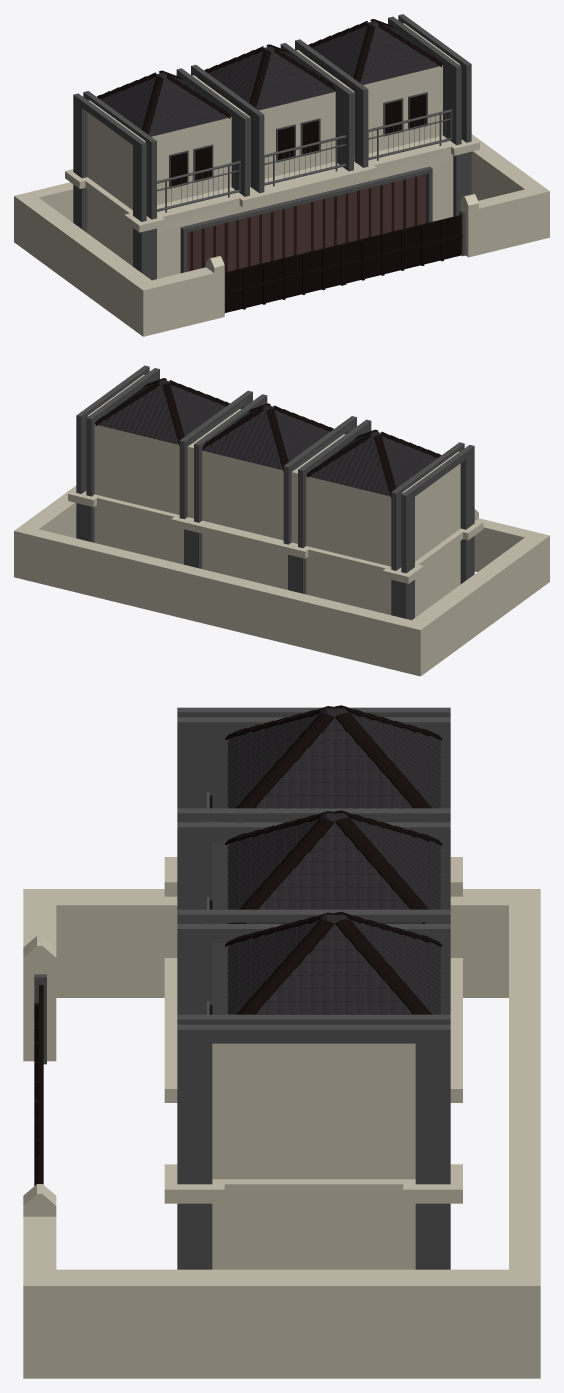
The model's file is rumah mc gerbang 3.fbx.
3 renders of one model, top to bottom at view 1: azimuth 30°, elevation 25°; view 2: azimuth 150°, elevation 25°; view 3: azimuth 270°, elevation 25°, orthographic. The views are drawn at different scales.
Visible parts, largest first — view 1: Plane, Plane.013, Plane.039, Plane.015, Plane.012, Plane.027, Plane.037, Plane.038, Plane.016, Plane.004, Plane.017, Plane.026 (+12 smaller); view 2: Plane, Plane.013, Plane.012, Plane.037, Plane.027, Plane.038, Plane.007, Plane.020, Plane.030, Plane.029, Plane.006, Plane.019 (+3 smaller); view 3: Plane.013, Plane, Plane.027, Plane.038, Plane.037, Plane.012, Plane.005, Plane.028, Plane.018, Plane.008, Plane.031, Plane.021 (+7 smaller).
Part boxes in pixels (<box>): Plane: <box>65,23,479,278</box>; Plane.013: <box>14,134,549,336</box>; Plane.039: <box>187,174,425,272</box>; Plane.015: <box>225,215,462,312</box>; Plane.012: <box>73,91,156,280</box>; Plane.027: <box>388,14,471,216</box>; Plane.037: <box>176,64,264,196</box>; Plane.038: <box>280,39,368,171</box>; Plane.016: <box>180,166,432,273</box>; Plane.004: <box>148,78,226,136</box>; Plane.017: <box>256,52,334,110</box>; Plane.026: <box>360,27,438,84</box>; Plane: <box>68,374,483,617</box>; Plane.013: <box>14,485,549,676</box>; Plane.012: <box>391,442,474,620</box>; Plane.037: <box>283,416,371,594</box>; Plane.027: <box>76,365,159,542</box>; Plane.038: <box>179,390,267,568</box>; Plane.007: <box>310,437,389,495</box>; Plane.020: <box>203,411,282,469</box>; Plane.030: <box>99,386,178,444</box>; Plane.029: <box>170,384,226,436</box>; Plane.006: <box>381,436,437,487</box>; Plane.019: <box>274,410,330,461</box>; Plane.013: <box>23,889,540,1378</box>; Plane: <box>164,857,462,1269</box>; Plane.027: <box>177,1014,450,1269</box>; Plane.038: <box>177,909,450,1014</box>; Plane.037: <box>177,808,450,909</box>; Plane.012: <box>177,707,450,808</box>; Plane.005: <box>256,718,412,808</box>; Plane.028: <box>256,924,412,1014</box>; Plane.018: <box>245,822,422,923</box>; Plane.008: <box>225,705,442,822</box>; Plane.031: <box>225,911,442,1014</box>; Plane.021: <box>225,810,442,923</box>.
Bounding box in the file's own units: 3031 × 1304 × 1669.
